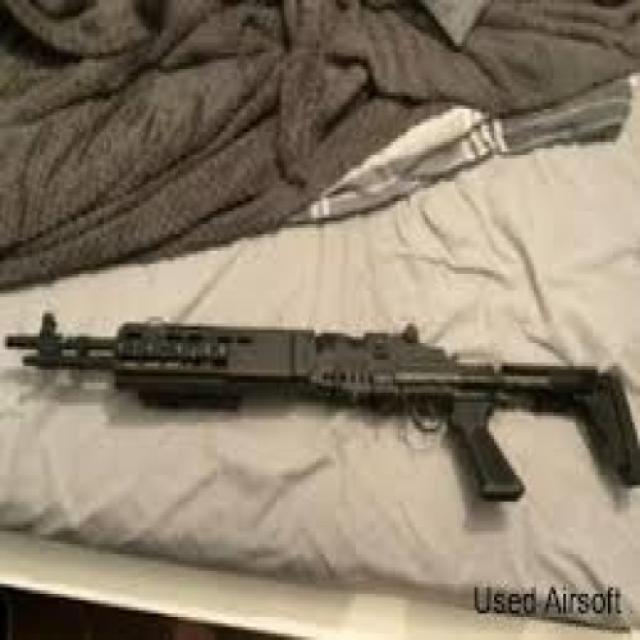Gun: (5, 236, 640, 520)
